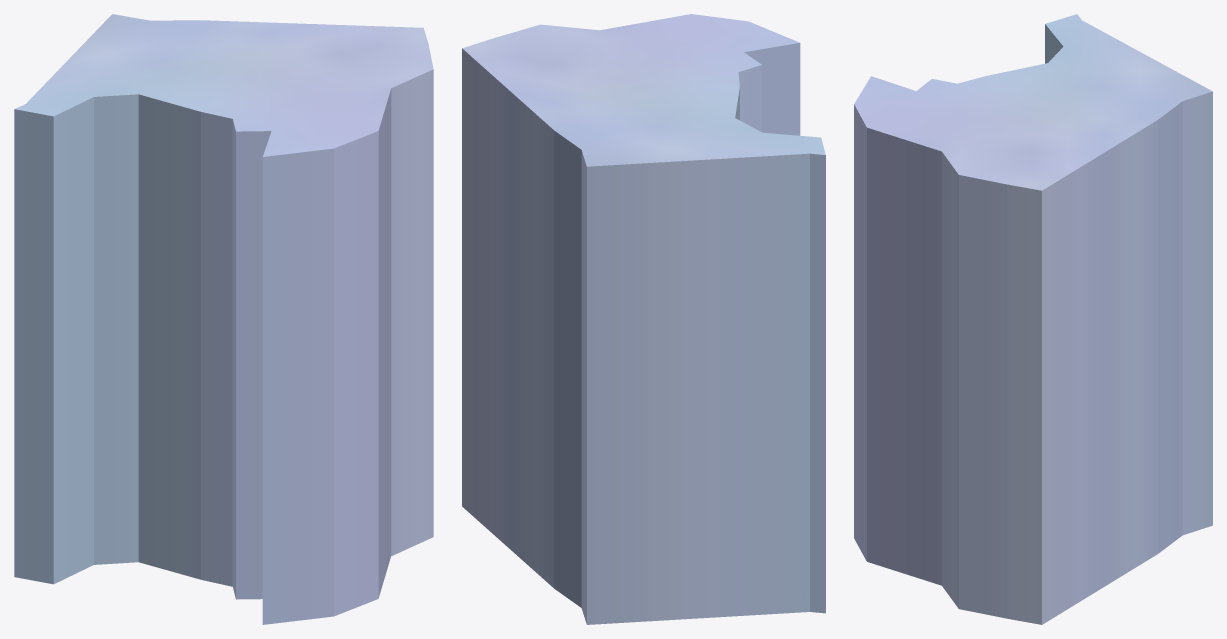
File: keansburg.glb
3 views of the same model, side by side, from view 1: azimuth 30°, elevation 25°; view 2: azimuth 150°, elevation 25°; view 3: azimuth 270°, elevation 25° (orthographic). The views are drawn at different scales.
Visible parts, largest first — view 1: Plane.042; view 2: Plane.042; view 3: Plane.042.
Boxes of the visible parts, x1,y1,x2,y2 form: Plane.042: (14,14,433,624); Plane.042: (462,14,825,624); Plane.042: (854,14,1212,624).
Size of the model in its own units: 0.3366 by 0.3856 by 0.2887.
1 material, 1 textured.
